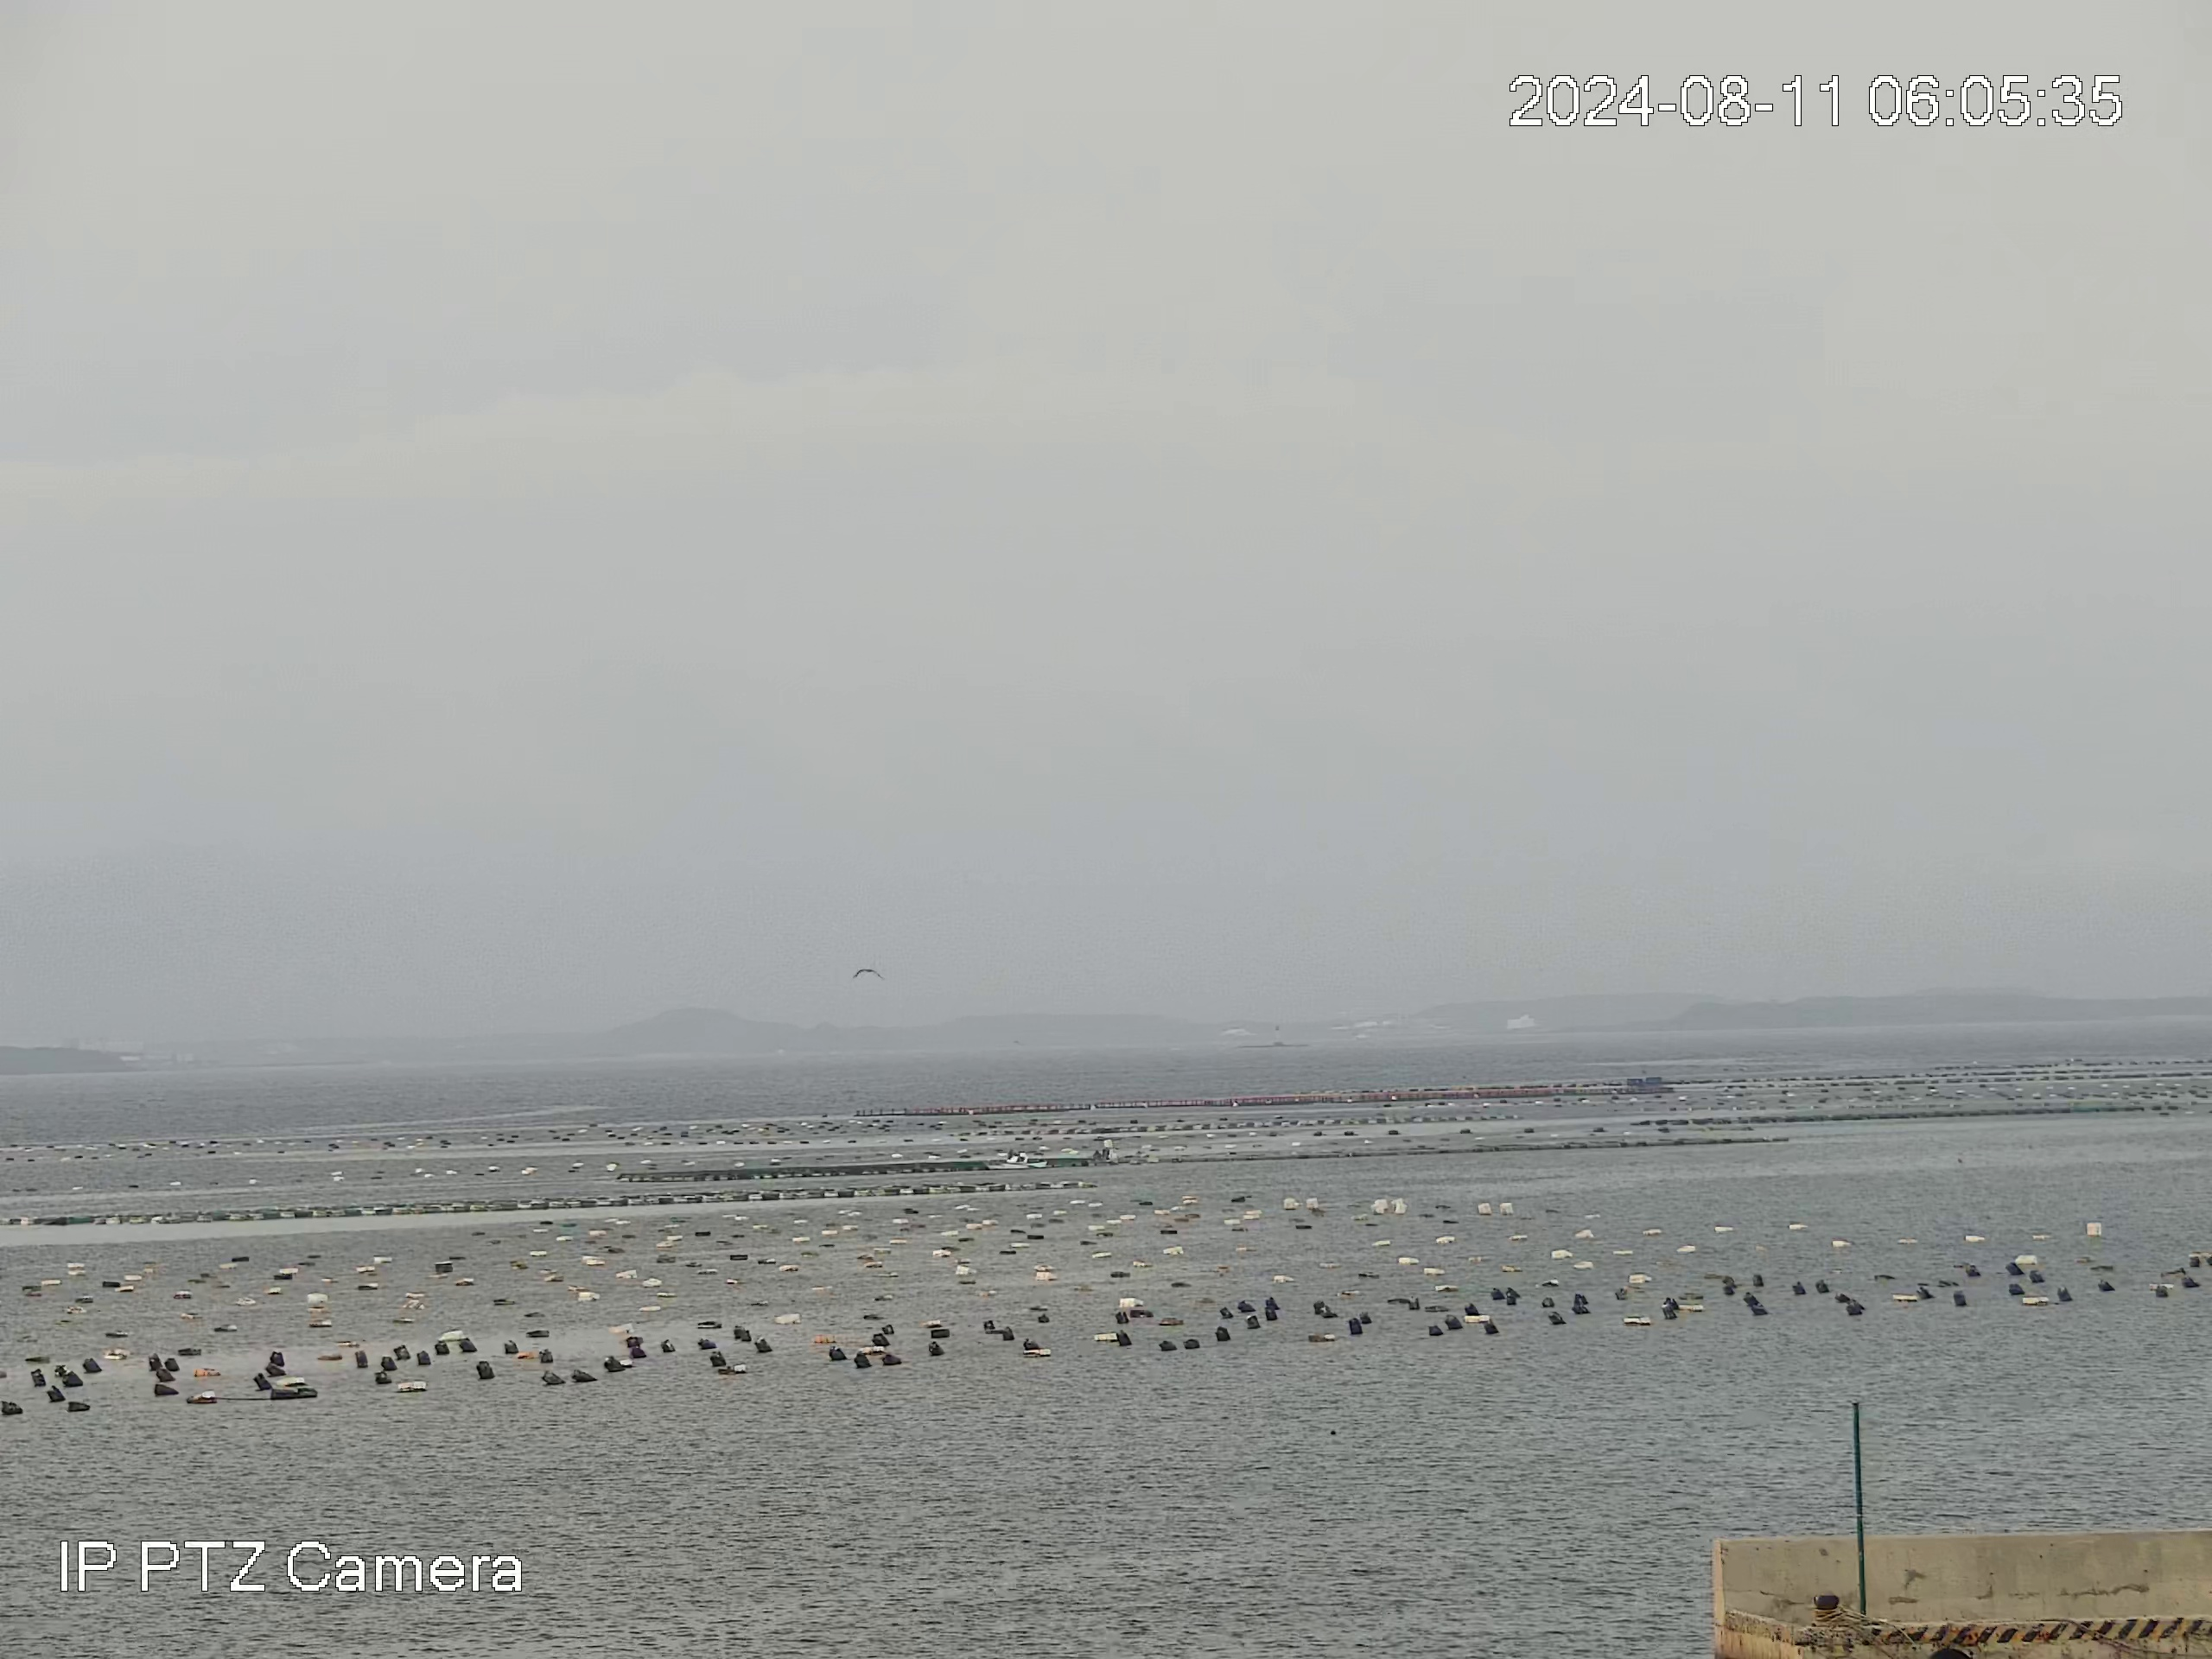boat: (981, 1147, 1049, 1171)
